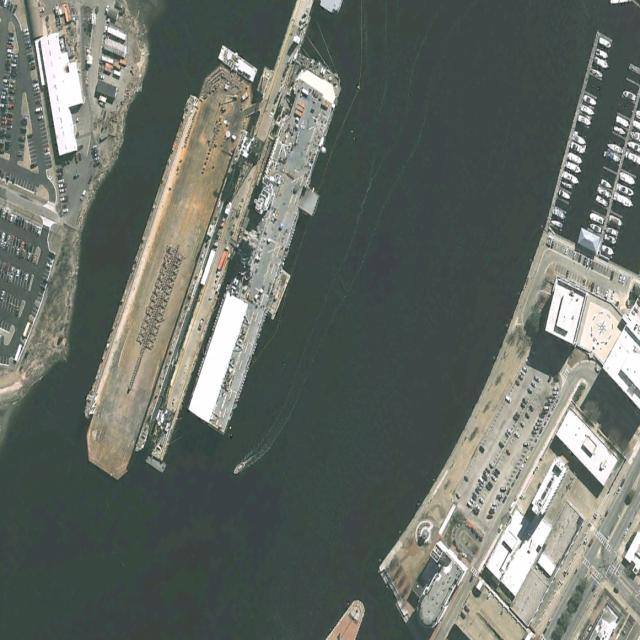Landing: (181, 46, 355, 446)
